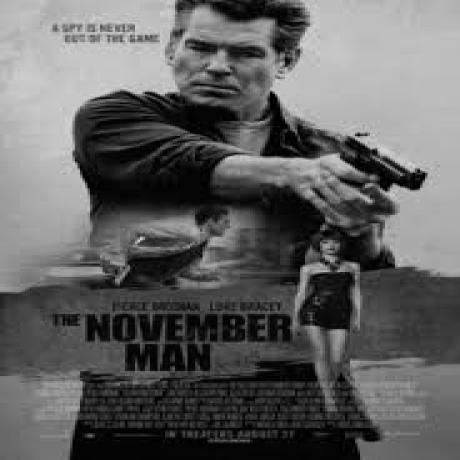Guns: (331, 131, 438, 201), (100, 255, 136, 284)
